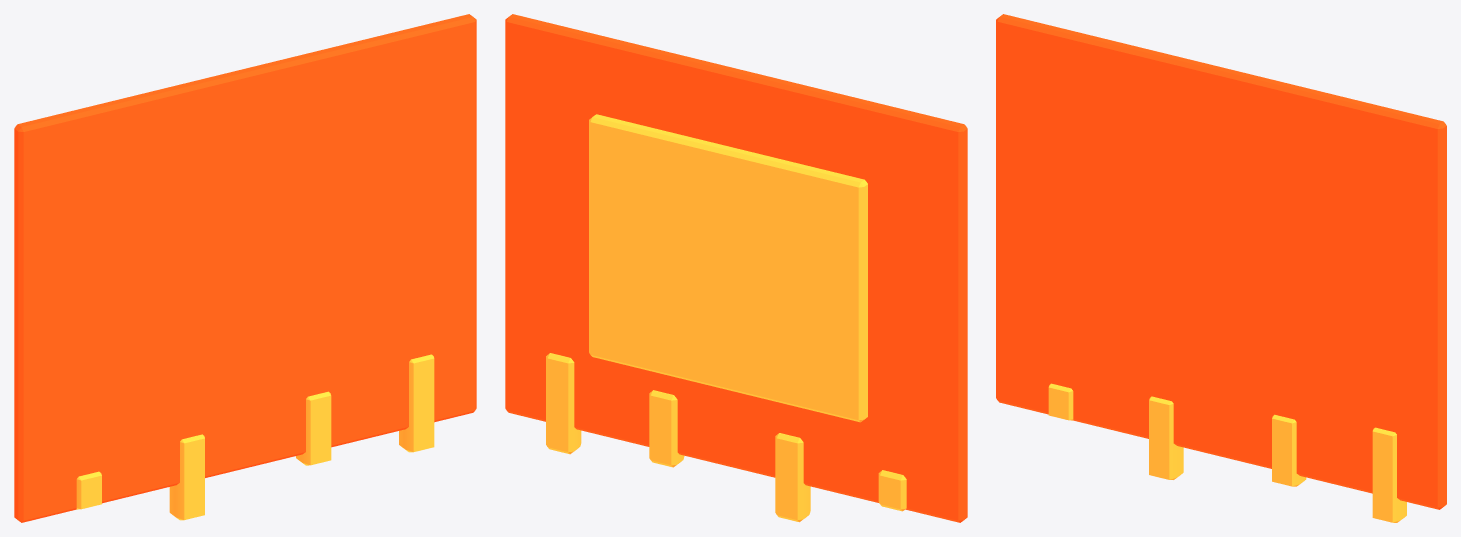
Rendered from prop_thermite_lock.glb.
The picture shows the model from 3 angles, left to right: view 1: azimuth 30°, elevation 25°; view 2: azimuth 150°, elevation 25°; view 3: azimuth 330°, elevation 25°; orthographic projection. The views are drawn at different scales.
Parts seen in each view (by area): view 1: Fire; view 2: Fire; view 3: Fire.
Part boxes in pixels (left/top/right/bottom): Fire: left=14, top=14, right=476, bottom=522; Fire: left=505, top=14, right=967, bottom=522; Fire: left=996, top=14, right=1446, bottom=522.
Size of the model in its own units: 0.4 by 0.36 by 0.028.
